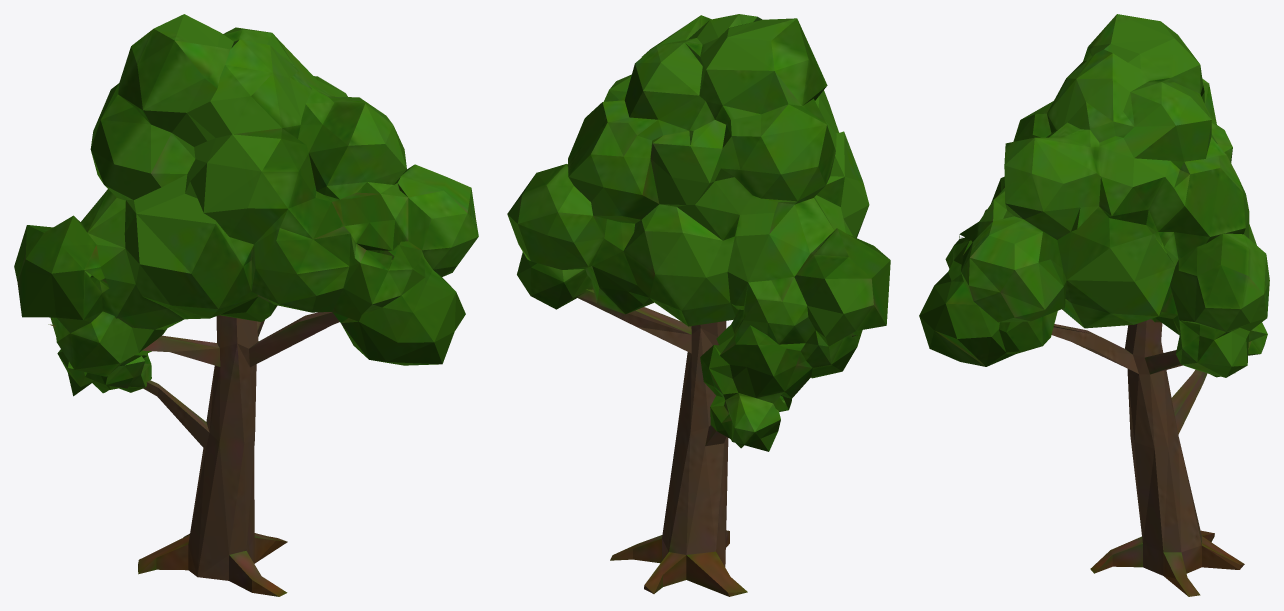
File: tree6.glb
3 views of the same model, side by side, from view 1: azimuth 30°, elevation 25°; view 2: azimuth 150°, elevation 25°; view 3: azimuth 270°, elevation 25° (orthographic). The views are drawn at different scales.
Visible parts, largest first — view 1: car; view 2: car; view 3: car.
Part boxes in pixels (bbox=[...]): car: bbox=[14, 14, 478, 596]; car: bbox=[507, 14, 890, 596]; car: bbox=[919, 14, 1269, 596].
Size of the model in its own units: 1.74 by 2.6 by 1.6.
Materials: 1 (1 with a texture image).
